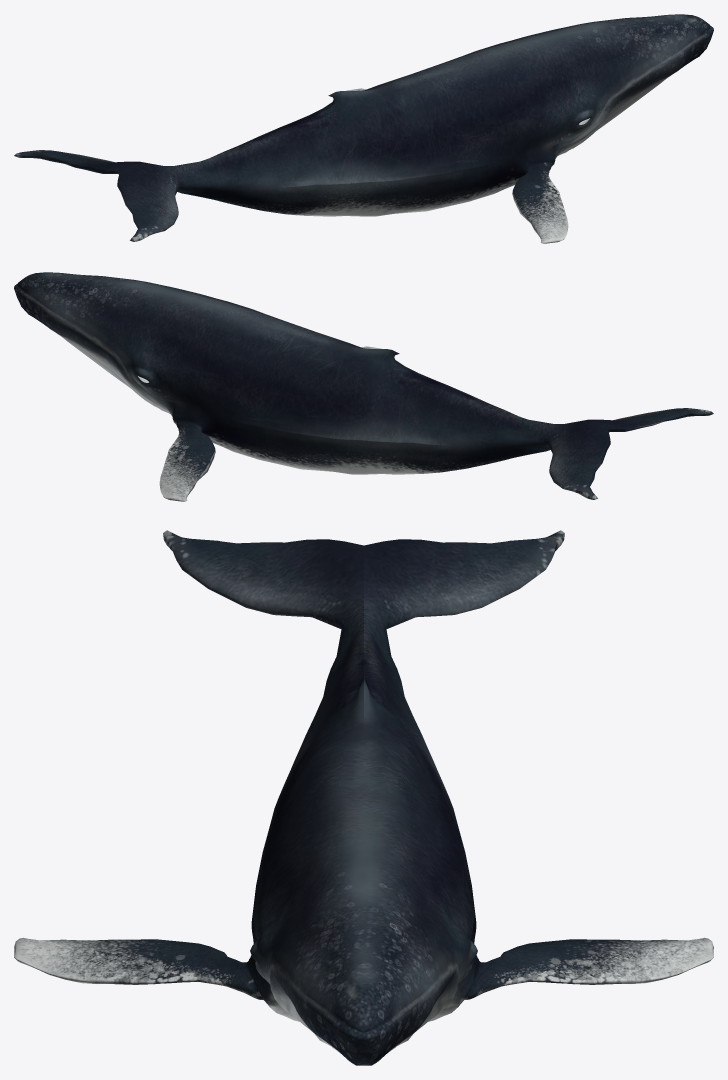
File: humpback.glb
The picture shows the model from 3 angles, top to bottom: view 1: azimuth 30°, elevation 25°; view 2: azimuth 150°, elevation 25°; view 3: azimuth 270°, elevation 25°; orthographic projection. The views are drawn at different scales.
Parts seen in each view (by area): view 1: baked_Object_2; view 2: baked_Object_2; view 3: baked_Object_2.
Part boxes in pixels (bbox=[...]): baked_Object_2: bbox=[14, 14, 713, 243]; baked_Object_2: bbox=[14, 272, 713, 501]; baked_Object_2: bbox=[14, 530, 713, 1065].
Bounding box in the file's own units: 1 × 0.2041 × 0.5559.
Materials: 1 (1 with a texture image).
